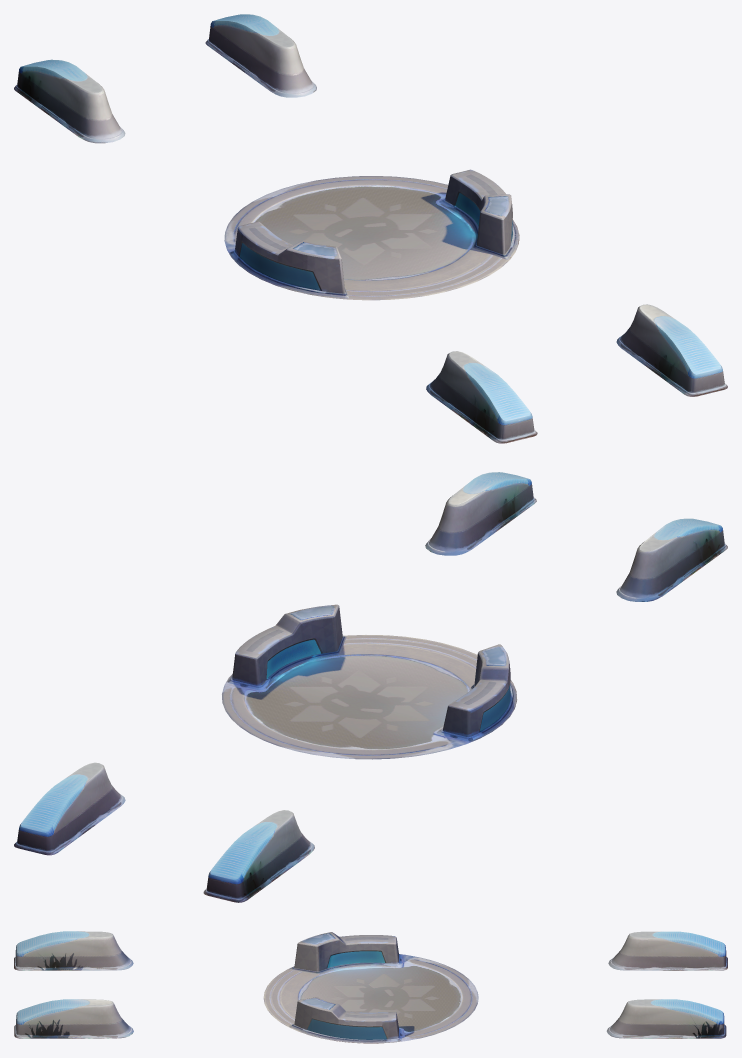
Rendered from pref_sm_beach_winter_bakegroups05_lv2.fbx.
3 views of the same model, one above another, from view 1: azimuth 30°, elevation 25°; view 2: azimuth 150°, elevation 25°; view 3: azimuth 270°, elevation 25° (orthographic). The views are drawn at different scales.
Visible parts, largest first — view 1: sm_beach_winter_bakegroups05_a_lv2; view 2: sm_beach_winter_bakegroups05_a_lv2; view 3: sm_beach_winter_bakegroups05_a_lv2.
Boxes of the visible parts, bbox=[...] form: sm_beach_winter_bakegroups05_a_lv2: bbox=[14, 14, 727, 443]; sm_beach_winter_bakegroups05_a_lv2: bbox=[14, 472, 727, 902]; sm_beach_winter_bakegroups05_a_lv2: bbox=[14, 931, 727, 1043].
Size of the model in its own units: 12.37 by 1.85 by 40.98.
1 material, 1 textured.
